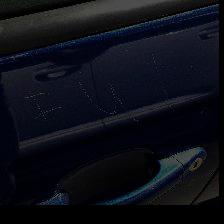door_scratch: (24, 62, 173, 133)
